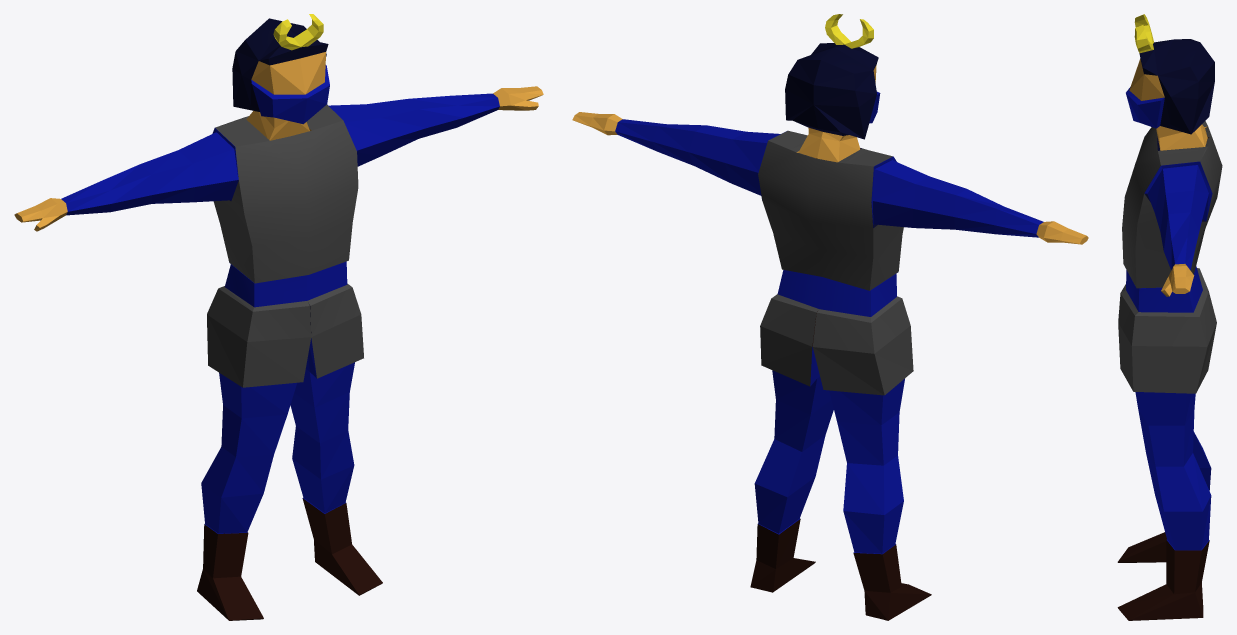
The model's file is Kazuro.fbx.
3 renders of one model, left to right at view 1: azimuth 30°, elevation 25°; view 2: azimuth 150°, elevation 25°; view 3: azimuth 270°, elevation 25°, orthographic. The views are drawn at different scales.
Parts seen in each view (by area): view 1: Box002; view 2: Box002; view 3: Box002.
Boxes of the visible parts, <box> form: Box002: <box>14,14,543,620</box>; Box002: <box>572,14,1088,620</box>; Box002: <box>1117,14,1222,620</box>.
Size of the model in its own units: 1.7 by 1.81 by 0.3047.
